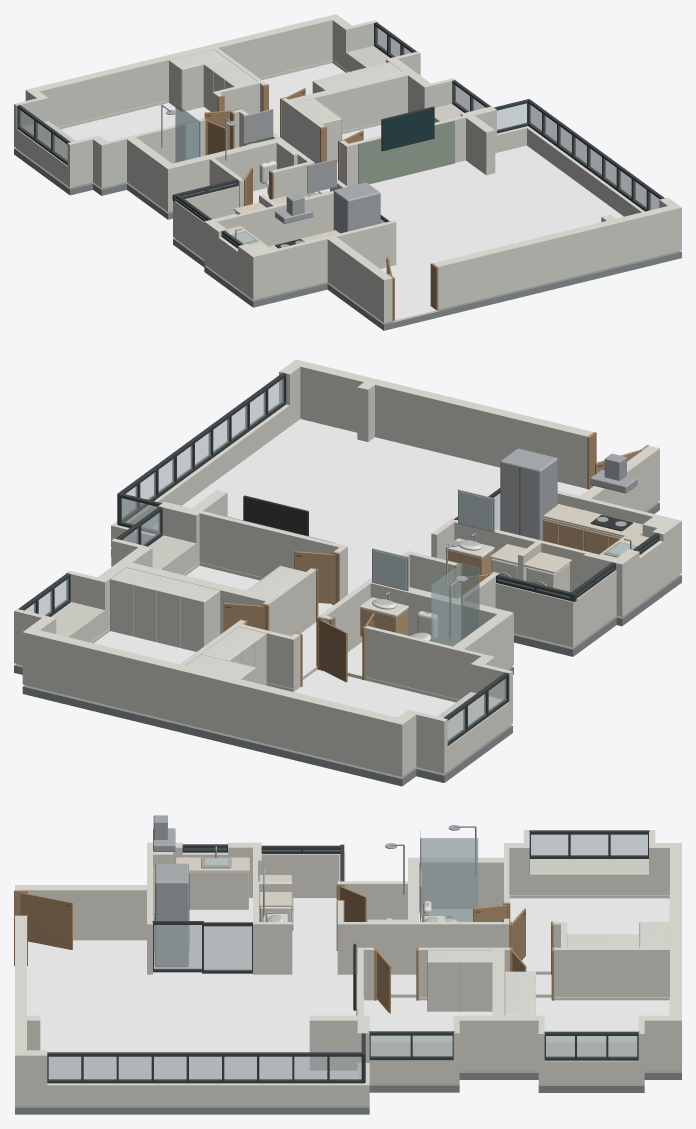
Rendered from architecture-cut.glb.
The picture shows the model from 3 angles, top to bottom: view 1: azimuth 30°, elevation 25°; view 2: azimuth 150°, elevation 25°; view 3: azimuth 270°, elevation 25°; orthographic projection. The views are drawn at different scales.
Visible parts, largest first — view 1: 剖切墙_0.00_00, 客餐厅阳台及过道_地面, 剖切墙_0.50_04, 剖切墙_0.50_00, 住宅楼板, 剖切墙_0.95_00, 剖切墙_0.50_02, 剖切墙_0.95_04, 电视墙_展示饰面, 剖切墙_0.50_01, 剖切墙_0.95_02, 剖切墙_0.45_00 (+25 smaller); view 2: 剖切墙_0.00_00, 客餐厅阳台及过道_地面, 剖切墙_0.50_04, 剖切墙_0.50_00, 剖切墙_0.95_00, 住宅楼板, 剖切墙_0.50_02, 剖切墙_0.95_04, 对开门冰箱_家电占位, 剖切墙_0.95_02, 剖切墙_0.45_00, 主卧与开放衣帽间_地面 (+36 smaller); view 3: 客餐厅阳台及过道_地面, 剖切墙_0.00_00, 剖切墙_0.50_04, 住宅楼板, 主卧与开放衣帽间_地面, 剖切墙_0.95_04, 主卫淋浴_东玻璃, 剖切墙_0.95_00, 长辈房_地面, 剖切墙_0.50_00, 厨房_地面, 公卫湿区与盥洗晾晒_地面 (+54 smaller).
Part boxes in pixels (x1,y1,x2,y2): 剖切墙_0.00_00: (14,45,681,322); 客餐厅阳台及过道_地面: (315,145,623,322); 剖切墙_0.50_04: (67,117,396,303); 剖切墙_0.50_00: (14,26,373,128); 住宅楼板: (14,148,681,330); 剖切墙_0.95_00: (14,14,377,111); 剖切墙_0.50_02: (438,206,681,290); 剖切墙_0.95_04: (67,109,314,186); 电视墙_展示饰面: (358,120,454,184); 剖切墙_0.50_01: (282,59,452,149); 剖切墙_0.95_02: (433,197,681,272); 剖切墙_0.45_00: (14,43,496,305); 剖切墙_0.00_00: (14,397,681,776); 客餐厅阳台及过道_地面: (152,419,588,675); 剖切墙_0.50_04: (334,455,681,701); 剖切墙_0.50_00: (14,618,447,752); 剖切墙_0.95_00: (14,608,447,731); 住宅楼板: (14,502,681,786); 剖切墙_0.50_02: (279,374,587,464); 剖切墙_0.95_04: (318,551,513,680); 对开门冰箱_家电占位: (500,448,557,540); 剖切墙_0.95_02: (279,359,593,443); 剖切墙_0.45_00: (14,477,681,755); 主卧与开放衣帽间_地面: (294,669,455,717); 客餐厅阳台及过道_地面: (27,940,551,1078); 剖切墙_0.00_00: (15,877,681,1105); 剖切墙_0.50_04: (46,852,529,951); 住宅楼板: (15,1070,681,1114); 主卧与开放衣帽间_地面: (509,898,669,971); 剖切墙_0.95_04: (337,830,529,931); 主卫淋浴_东玻璃: (421,838,478,921); 剖切墙_0.95_00: (553,830,681,1040); 长辈房_地面: (536,997,669,1041); 剖切墙_0.50_00: (553,855,681,1061); 厨房_地面: (153,898,252,974); 公卫湿区与盥洗晾晒_地面: (292,898,337,974).
Size of the model in its own units: 10.62 by 2.43 by 13.28.
